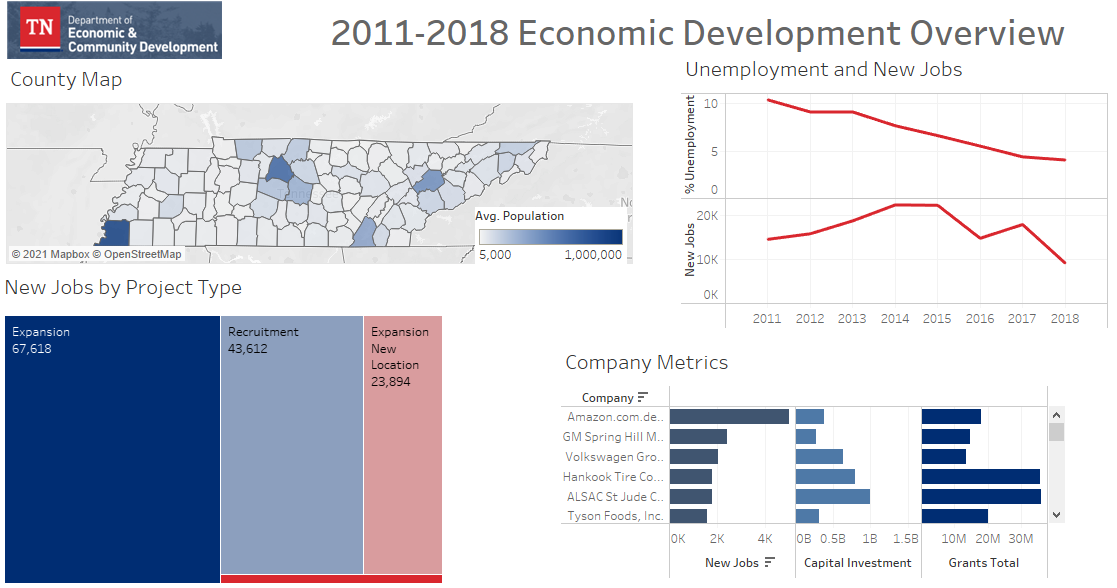

The page's visual inventory and layout, read from the dashboard file:
{"tool":"tableau","page":{"name":"ECD Dash","canvas":[1000,1000],"units":"permille","ordinal":0},"visuals":[{"type":"image","param":"Image/ecd pic.PNG","box":[12,7.5,290,98.8]},{"type":"text","box":[232.5,20.3,755.3,72.6]},{"type":"worksheet","title":"Unemployment and New Jobs","mark":"Automatic","rows":["avg_annual_unempl","new_jobs"],"cols":["year"],"box":[595.9,89.5,369.5,471.3]},{"type":"worksheet","title":"County Map","mark":"Automatic","box":[11.2,106.4,543.1,344.6]},{"type":"legend","title":"County Map","param":"[federated.164183y0si1frd1f66qfm13x7r93].[avg:population:qk]","box":[417.3,354.7,131.6,98]},{"type":"worksheet","title":"New Jobs by Project Type","mark":"Automatic","box":[6.1,457.8,578.4,540.5]}]}

Visuals, with their boxes on the dashboard's canvas, which has no fixed pixel size, in thousandths of its width and height (x1, y1, x2, y2). These are canvas units, not pixel positions in the 1117x588 screenshot, which may show the page scaled, cropped or inside an application window:
image: crop(12, 8, 302, 106)
text: crop(232, 20, 988, 93)
"Unemployment and New Jobs" worksheet: crop(596, 90, 965, 561)
"County Map" worksheet: crop(11, 106, 554, 451)
"County Map" legend: crop(417, 355, 549, 453)
"New Jobs by Project Type" worksheet: crop(6, 458, 584, 998)
